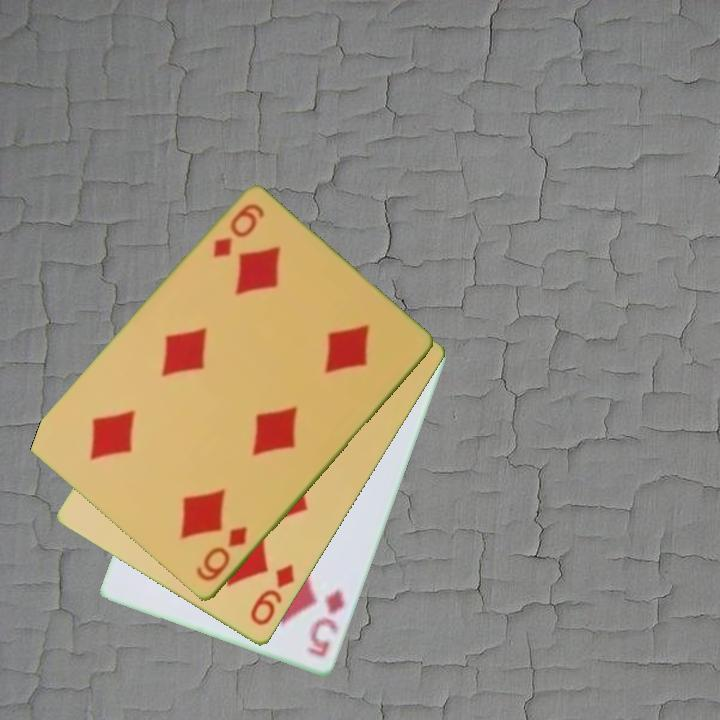5d: (303, 586, 348, 661)
6d: (192, 523, 251, 585), (209, 200, 267, 262)
9d: (246, 561, 298, 630)
